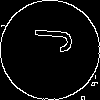J: (25, 25, 73, 54)
